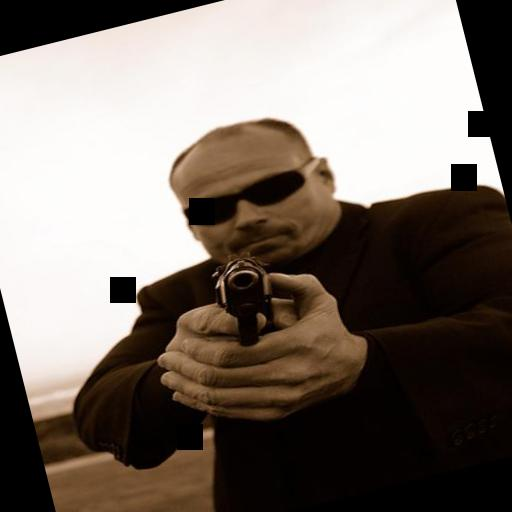Handgun: (202, 244, 283, 350)
